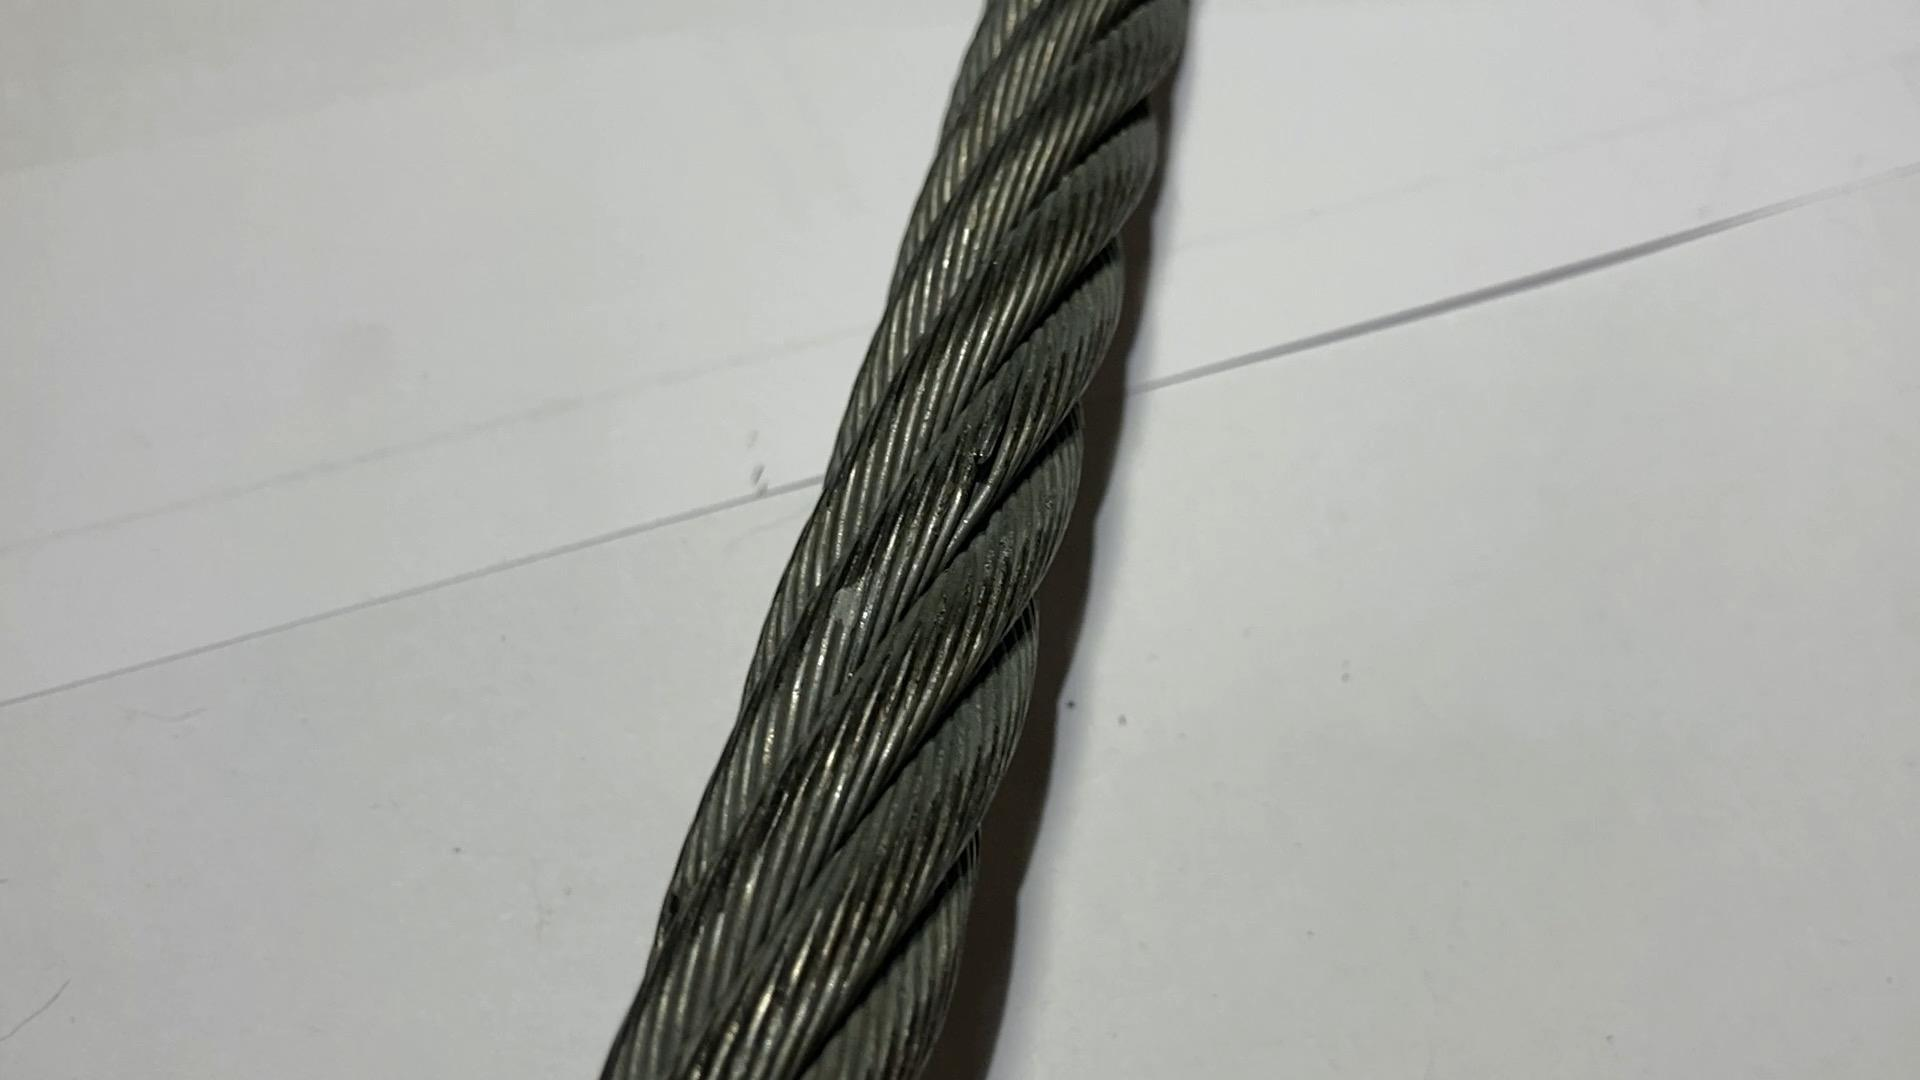break: (948, 427, 1017, 504)
